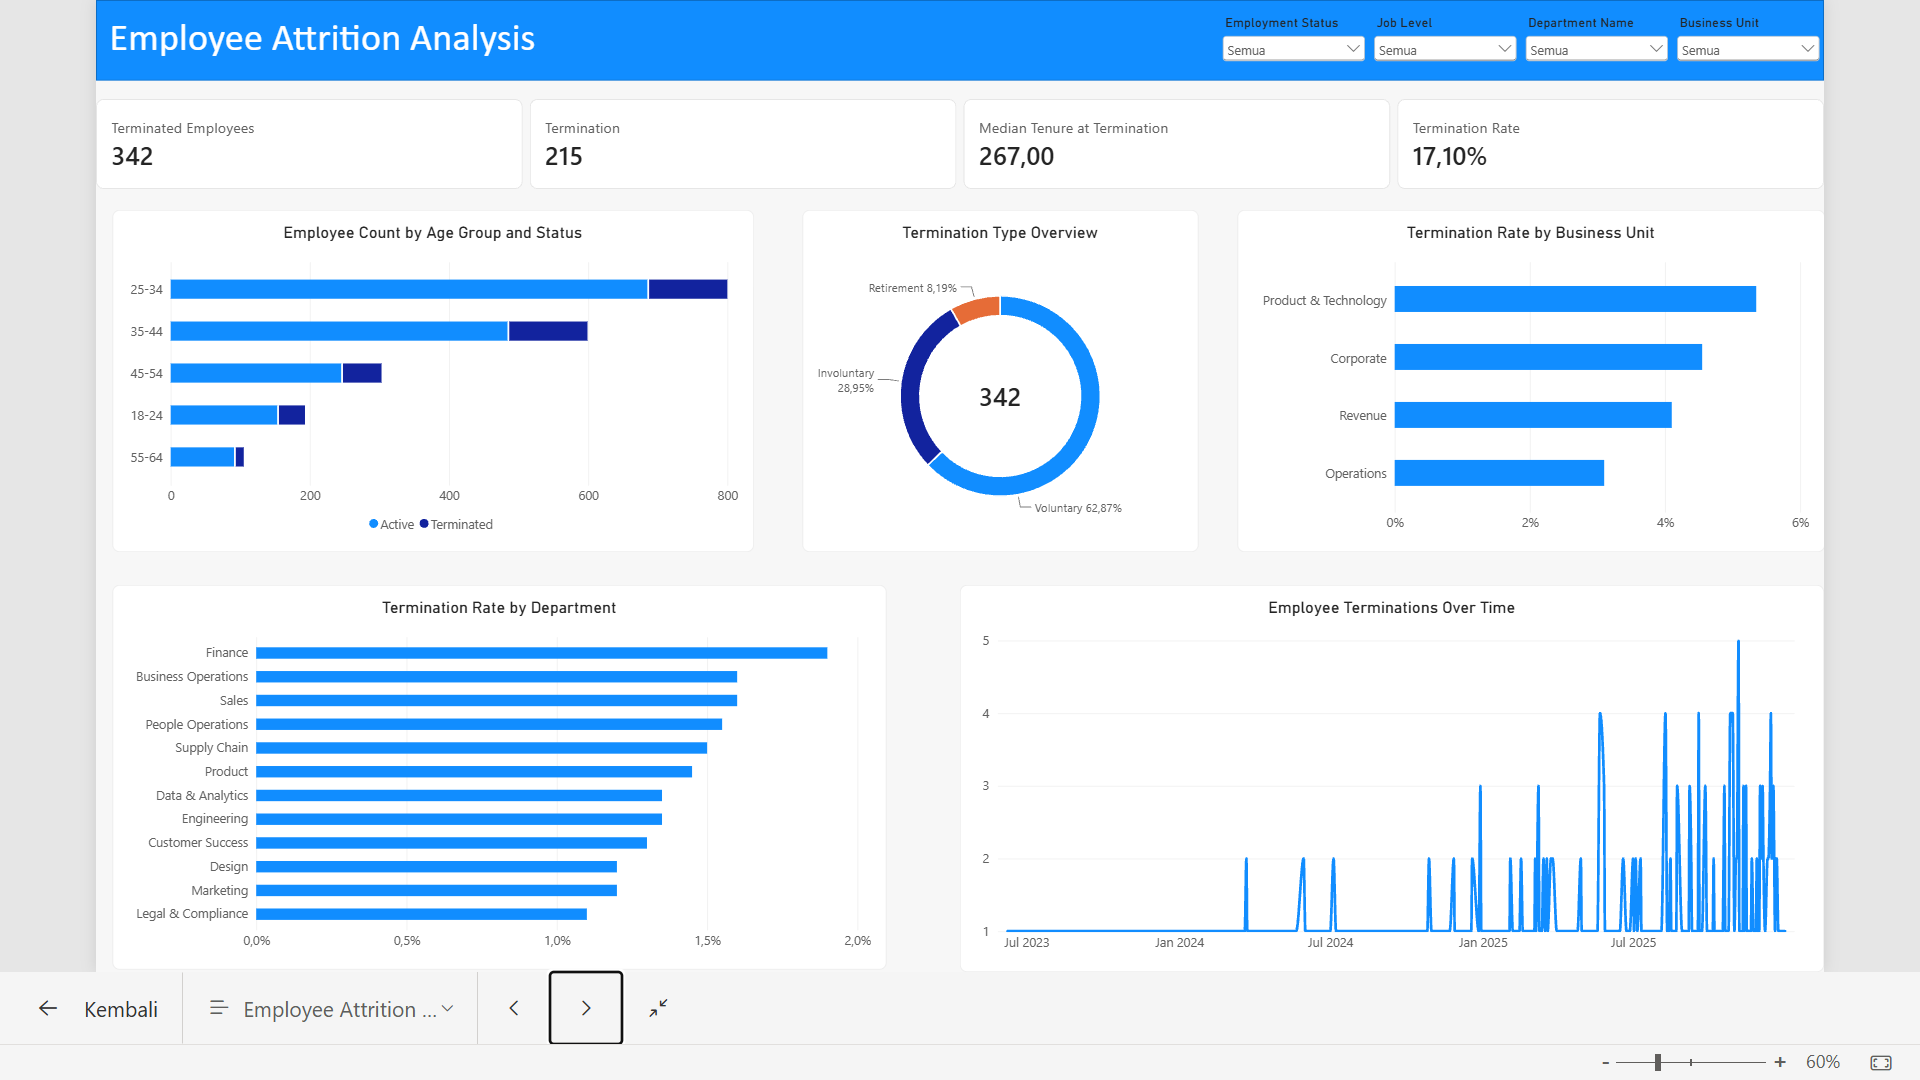

This screenshot's page, from the dashboard's own definition file:
{"tool":"powerbi","page":{"name":"Employee Attrition Analysis","canvas":[1920,1080],"ordinal":1},"visuals":[{"type":"shape","box":[0,0,1920,89.7],"z":0},{"type":"donutChart","title":"Termination Type Overview","fields":{"Category":["employment_records.termination_type"],"Y":["_DAX.Karyawan Keluar"]},"box":[785,232.5,440,380],"z":1000},{"type":"barChart","title":"Termination Rate by Department","fields":{"Category":["departments.department_name"],"Y":["_DAX.Persentase Karyawan Keluar Departemen"]},"box":[17.5,650,860,427.5],"z":2000},{"type":"barChart","title":"Employee Count by Age Group and Status","fields":{"Category":["employees.age_band"],"Series":["employment_records.employment_status"],"Y":["CountNonNull(employment_records.employee_id)"]},"box":[17.5,232.5,712.5,380],"z":3000},{"type":"cardVisual","fields":{"Data":["_DAX.Karyawan Keluar","_DAX.Resign","_DAX.Median Masa Kerja Keluar","_DAX.Persentase Keluar"]},"box":[0,110,1920,100],"z":4000},{"type":"barChart","title":"Termination Rate by Business Unit","fields":{"Category":["departments.business_unit"],"Y":["_DAX.Persentase Karyawan Keluar Departemen"]},"box":[1267.5,232.5,652.5,380],"z":5000},{"type":"lineChart","title":"Employee Terminations Over Time","fields":{"Category":["employment_records.ended_at"],"Y":["_DAX.Karyawan Keluar"]},"box":[960,650,960,430],"z":6000},{"type":"textbox","box":[70,16,618,74],"z":7000},{"type":"image","box":[0,0,70,90],"z":8000}]}

Visuals, with their boxes on the page's 1920x1080 design canvas (x1, y1, x2, y2). These are canvas units, not pixel positions in the 1920x1080 screenshot, which may show the page scaled, cropped or inside an application window:
shape: Rect(0, 0, 1920, 90)
"Termination Type Overview" donutChart: Rect(785, 232, 1225, 612)
"Termination Rate by Department" barChart: Rect(18, 650, 878, 1078)
"Employee Count by Age Group and Status" barChart: Rect(18, 232, 730, 612)
cardVisual - _DAX.Karyawan Keluar x _DAX.Resign: Rect(0, 110, 1920, 210)
"Termination Rate by Business Unit" barChart: Rect(1268, 232, 1920, 612)
"Employee Terminations Over Time" lineChart: Rect(960, 650, 1920, 1080)
textbox: Rect(70, 16, 688, 90)
image: Rect(0, 0, 70, 90)
